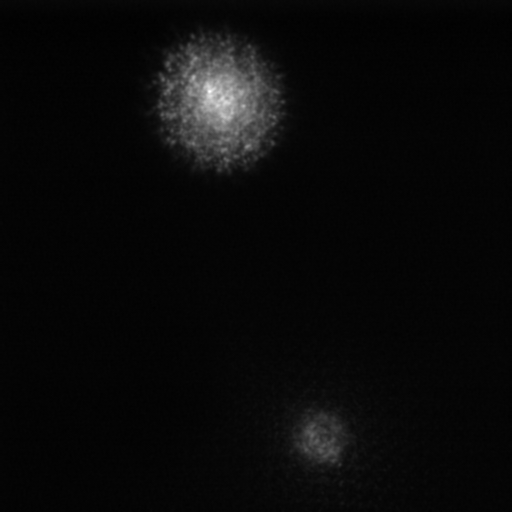lam3: (157, 44, 279, 154), (297, 414, 340, 462)
